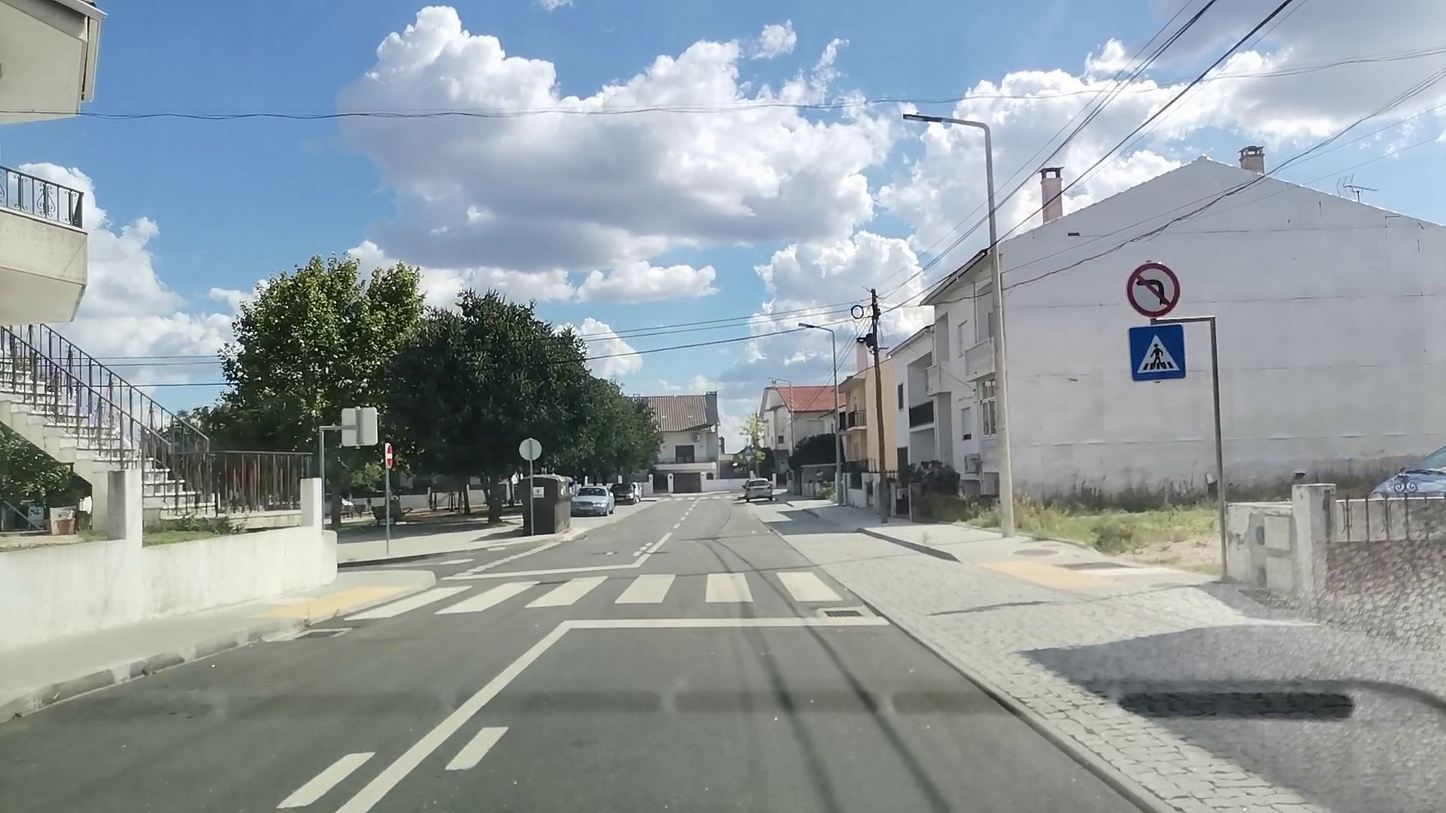Stairs: (349, 568, 840, 621)
